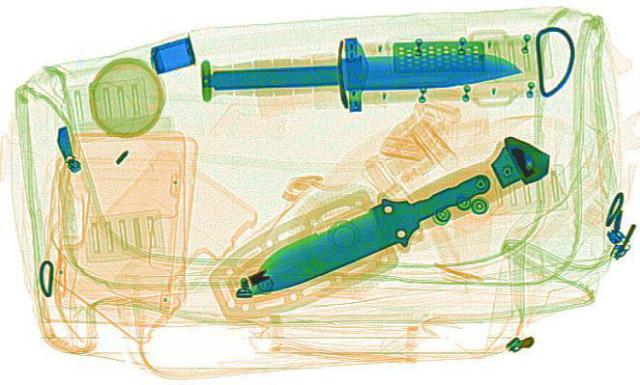Knife: (222, 163, 512, 298), (203, 49, 525, 92)
